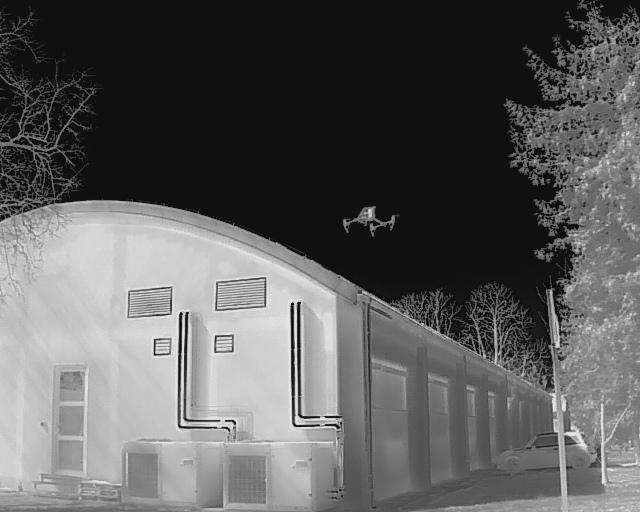drone: (331, 201, 406, 247)
